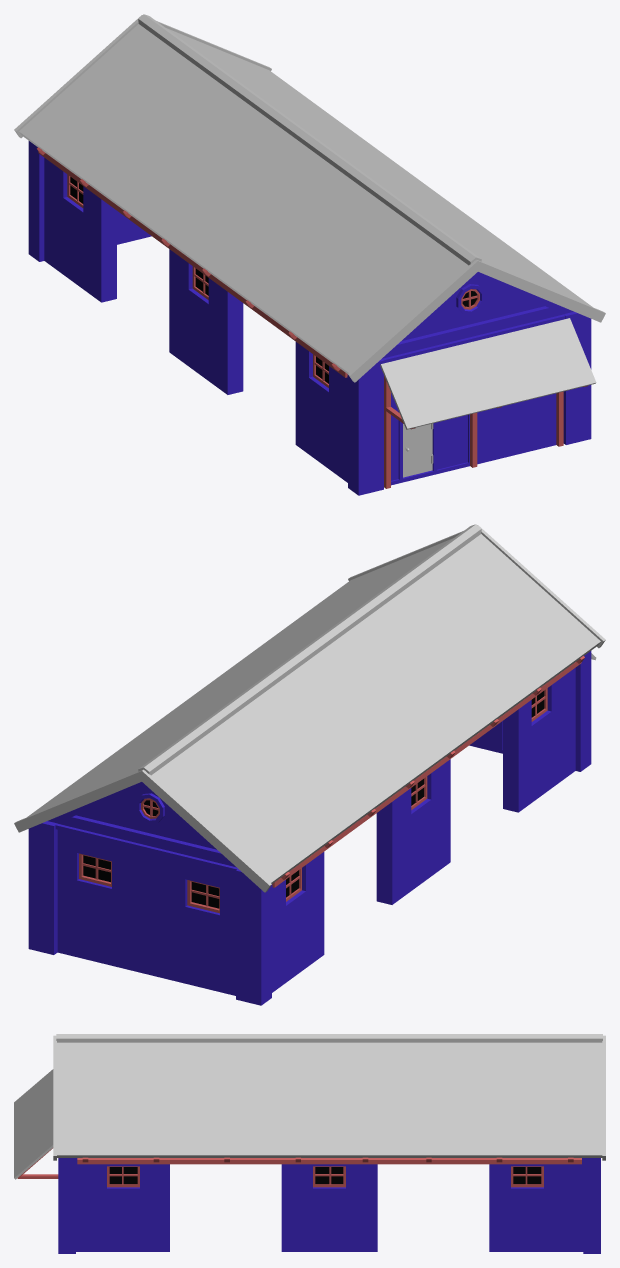
File: SM_warehouse.fbx
The picture shows the model from 3 angles, top to bottom: view 1: azimuth 30°, elevation 25°; view 2: azimuth 150°, elevation 25°; view 3: azimuth 270°, elevation 25°; orthographic projection. The views are drawn at different scales.
Parts seen in each view (by area): view 1: Cube_6, Cube_1, Cylinder_4; view 2: Cube_6, Cube_1; view 3: Cube_6, Cube_1.
Part boxes in pixels (left/top/right/bottom): Cube_6: left=14, top=14, right=605, bottom=382; Cube_1: left=28, top=141, right=596, bottom=495; Cylinder_4: left=403, top=423, right=433, bottom=477; Cube_6: left=14, top=524, right=605, bottom=892; Cube_1: left=28, top=651, right=596, bottom=1005; Cube_6: left=53, top=1034, right=605, bottom=1160; Cube_1: left=14, top=1069, right=600, bottom=1253.
Size of the model in its own units: 830 by 653 by 2022.
